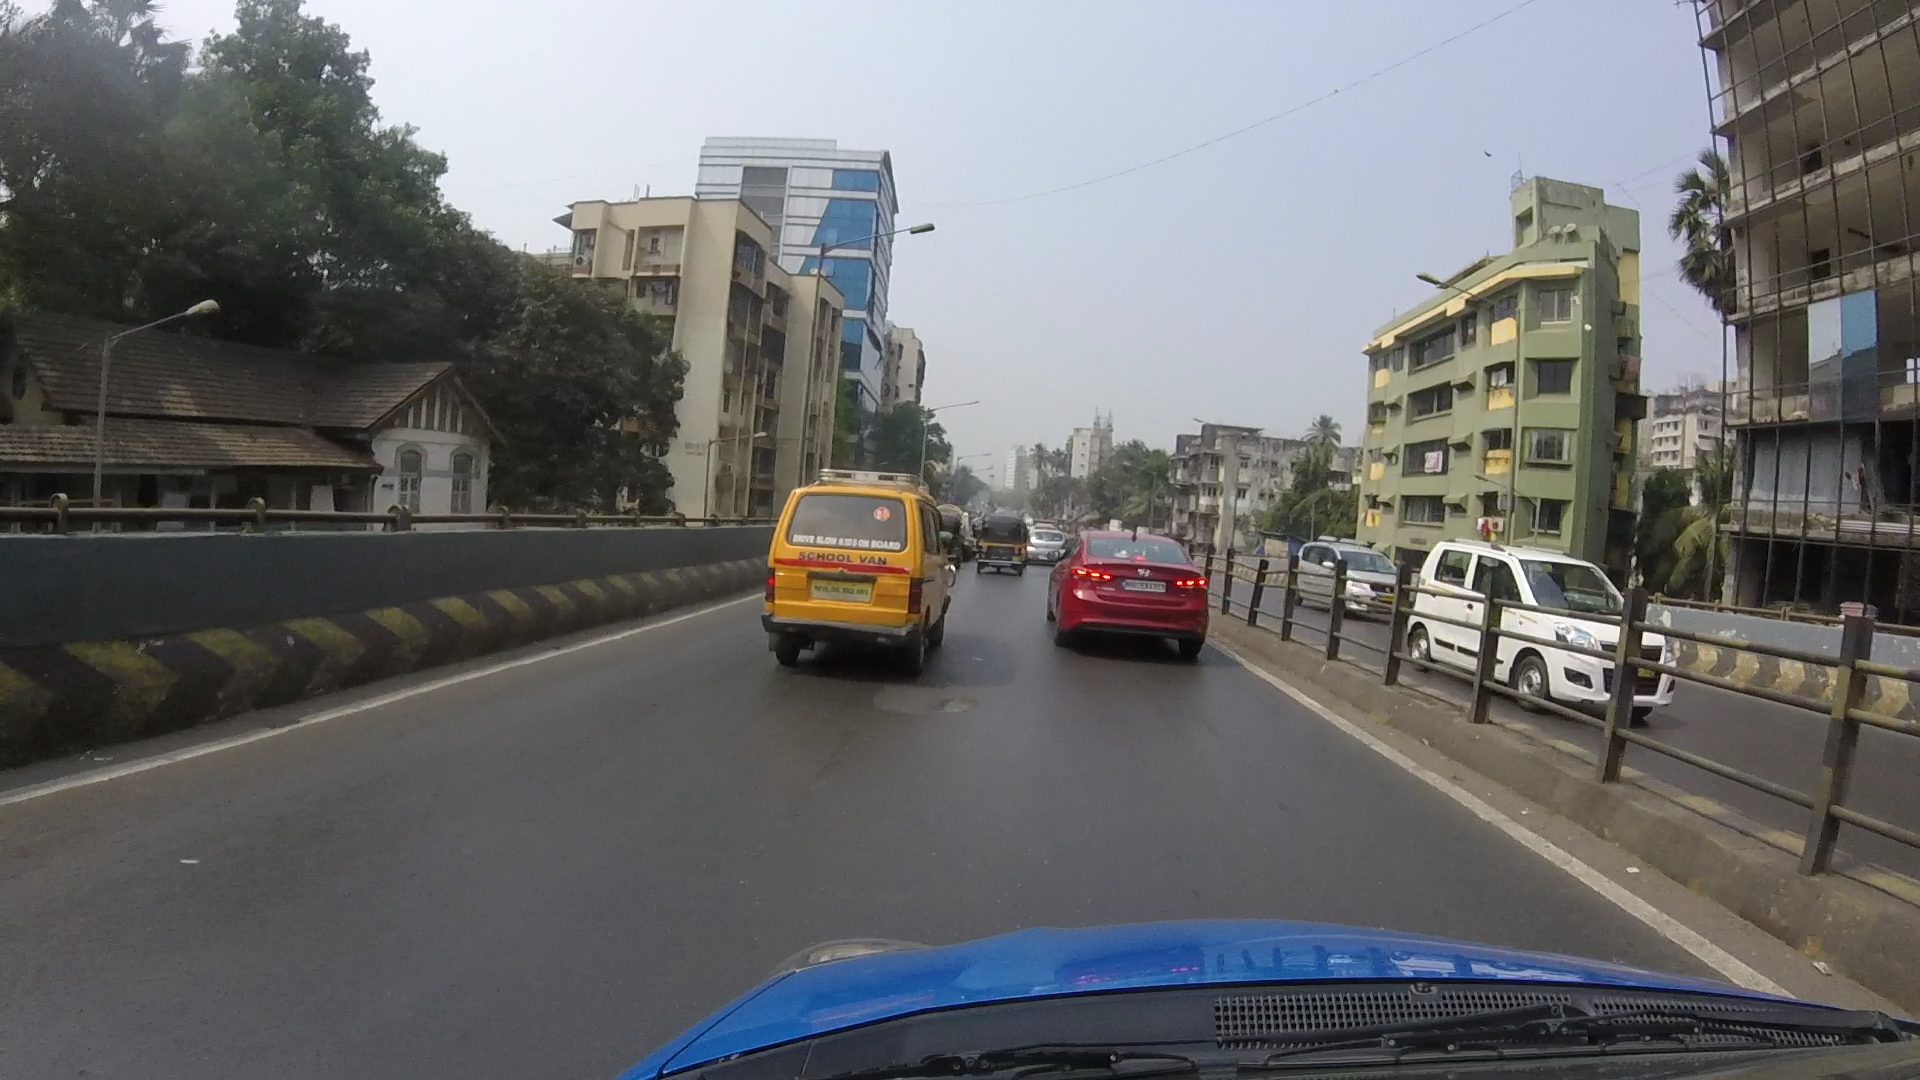car: (1404, 529, 1688, 738), (745, 433, 953, 666), (1048, 516, 1212, 659), (1271, 514, 1404, 625)
rickshaw: (969, 487, 1042, 589)
